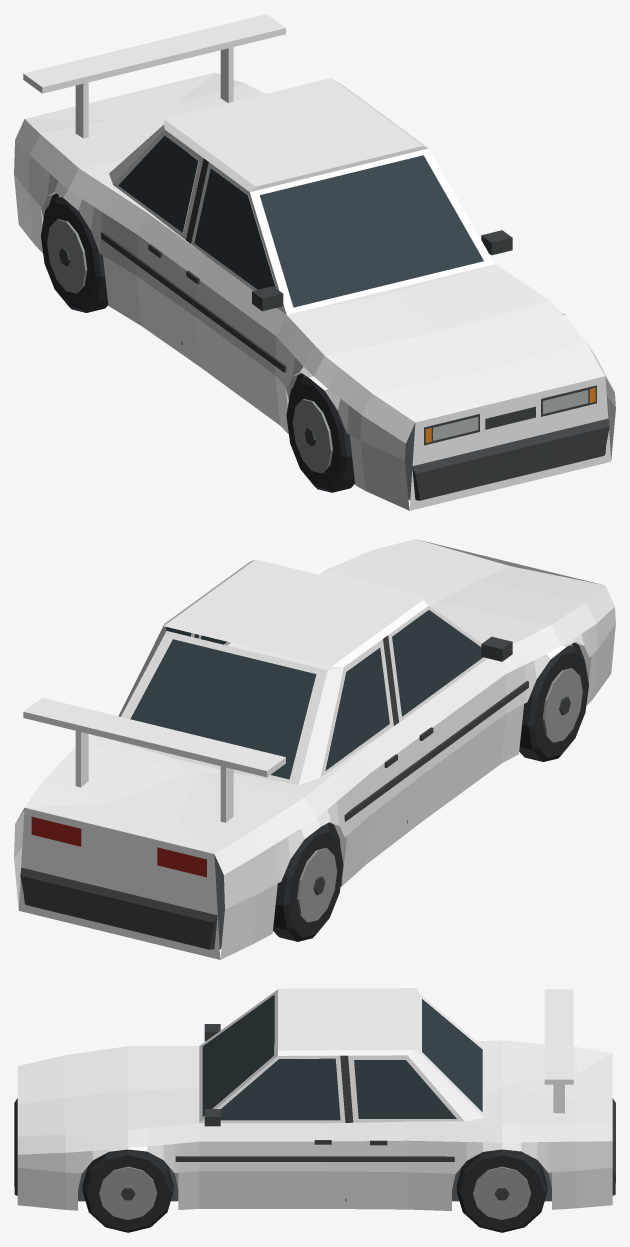
File: kanaya_yamakaze_corrida.glb
3 renders of one model, top to bottom at view 1: azimuth 30°, elevation 25°; view 2: azimuth 150°, elevation 25°; view 3: azimuth 270°, elevation 25°, orthographic. The views are drawn at different scales.
Parts seen in each view (by area): view 1: kanaya_yamakaze_corrida; view 2: kanaya_yamakaze_corrida; view 3: kanaya_yamakaze_corrida.
Part boxes in pixels (left/top/right/bottom): kanaya_yamakaze_corrida: left=14, top=14, right=615, bottom=510; kanaya_yamakaze_corrida: left=14, top=539, right=615, bottom=959; kanaya_yamakaze_corrida: left=14, top=988, right=615, bottom=1232.
Bounding box in the file's own units: 1.72 × 1.42 × 4.57.
Materials: 8 (1 with a texture image).
